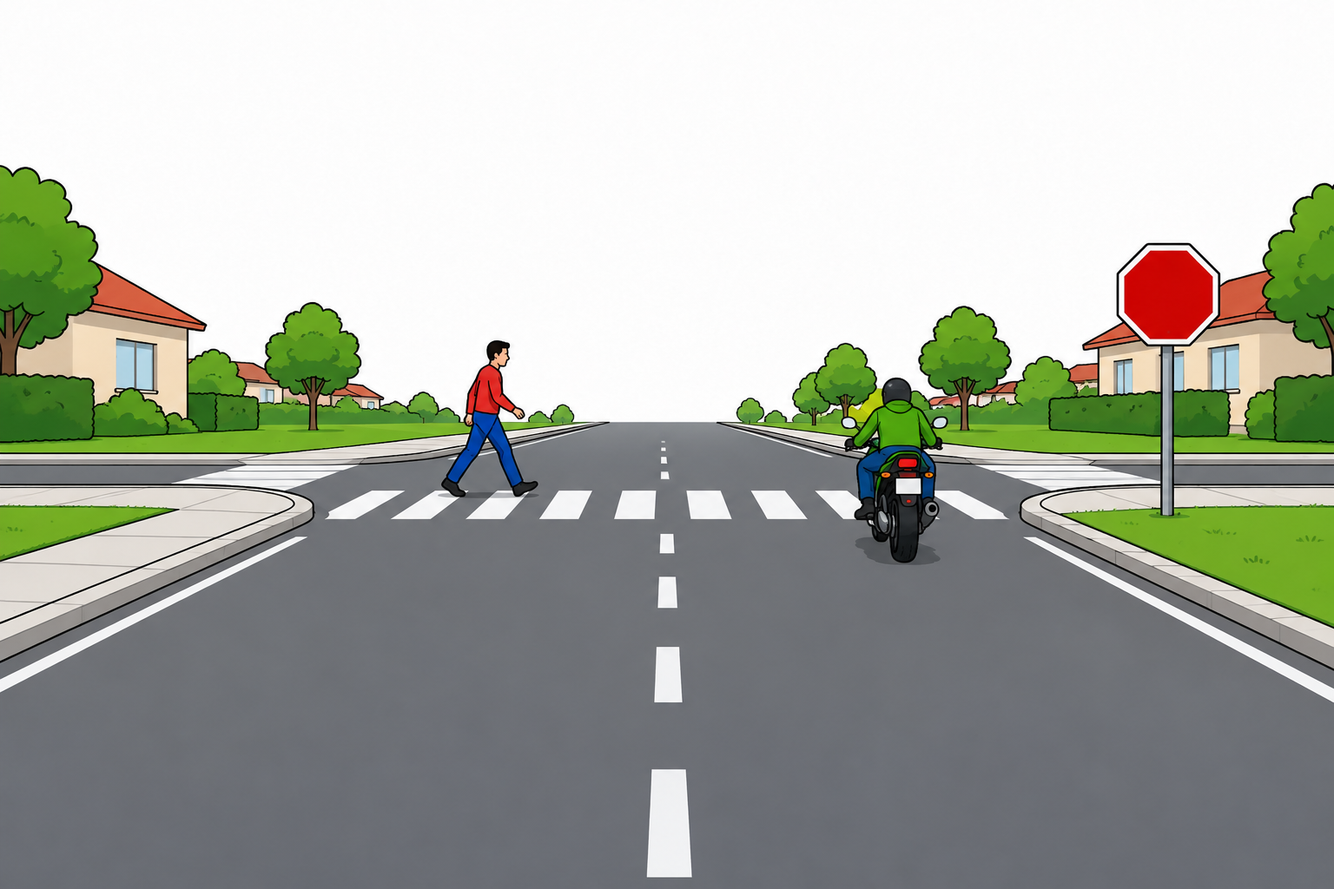motorcycle: (837, 417, 954, 569)
person: (437, 339, 545, 516), (841, 376, 950, 529)
stop_sign: (1115, 244, 1226, 352)
zebra_crossing: (307, 484, 1029, 556)
